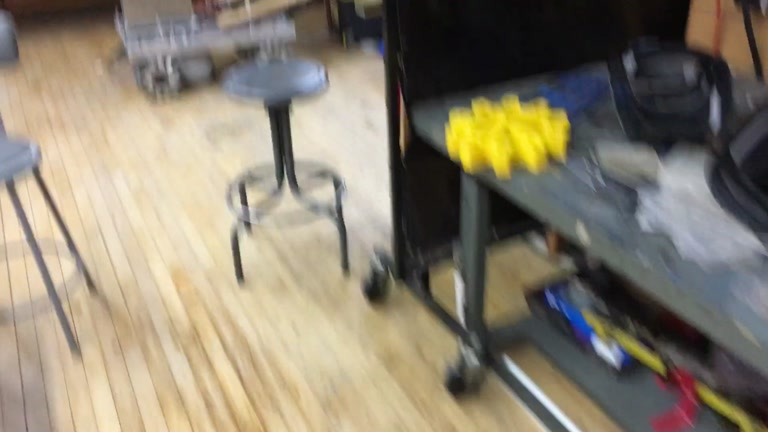gear: (445, 94, 569, 180)
